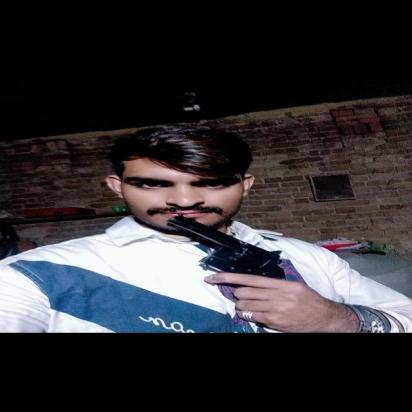Gun: (161, 212, 293, 329)
